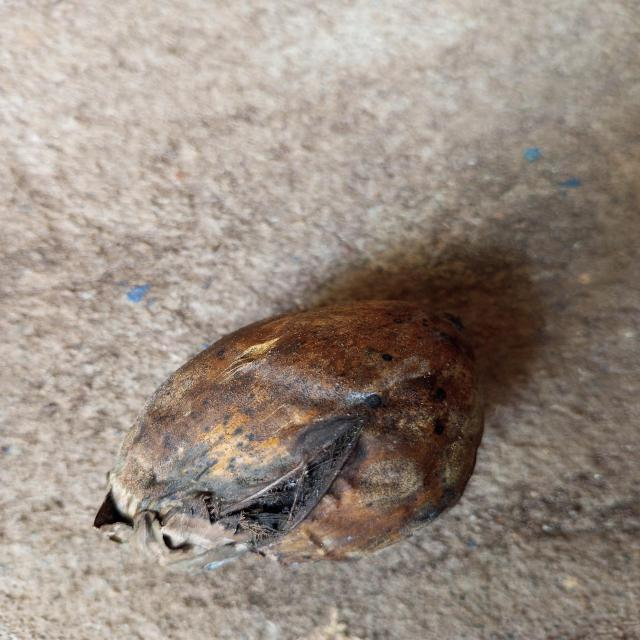damaged: (92, 296, 509, 575)
